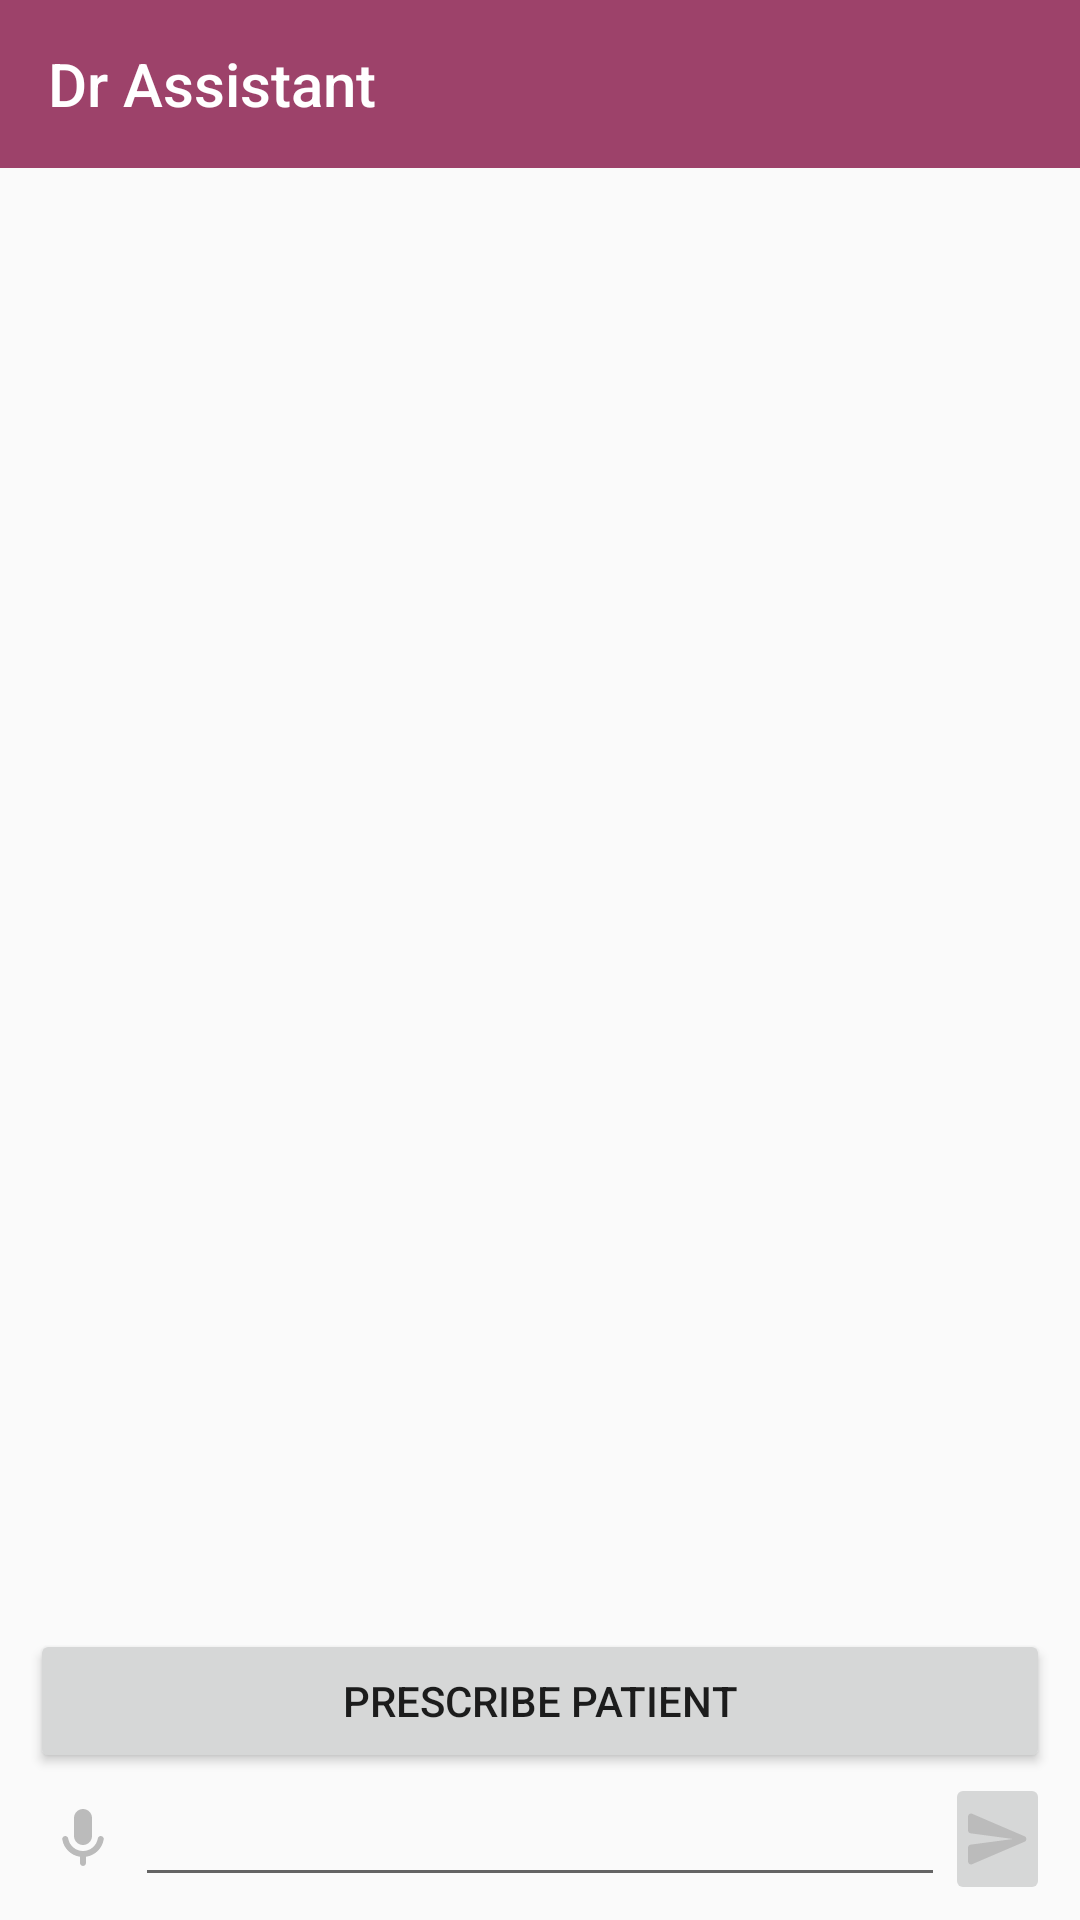

Point at icon controls on the screen. Image size 1080 x 1920, points as (x,y).
mic: (83,1837)
send: (997,1839)
